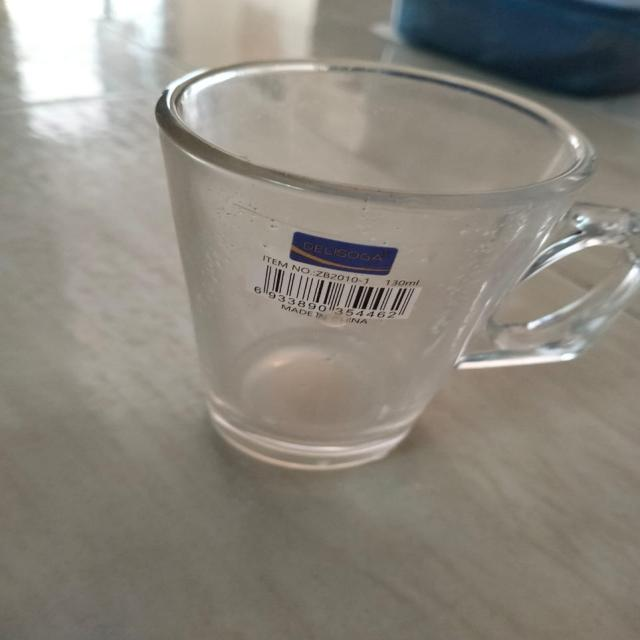glass-VX4N: (151, 56, 640, 471)
